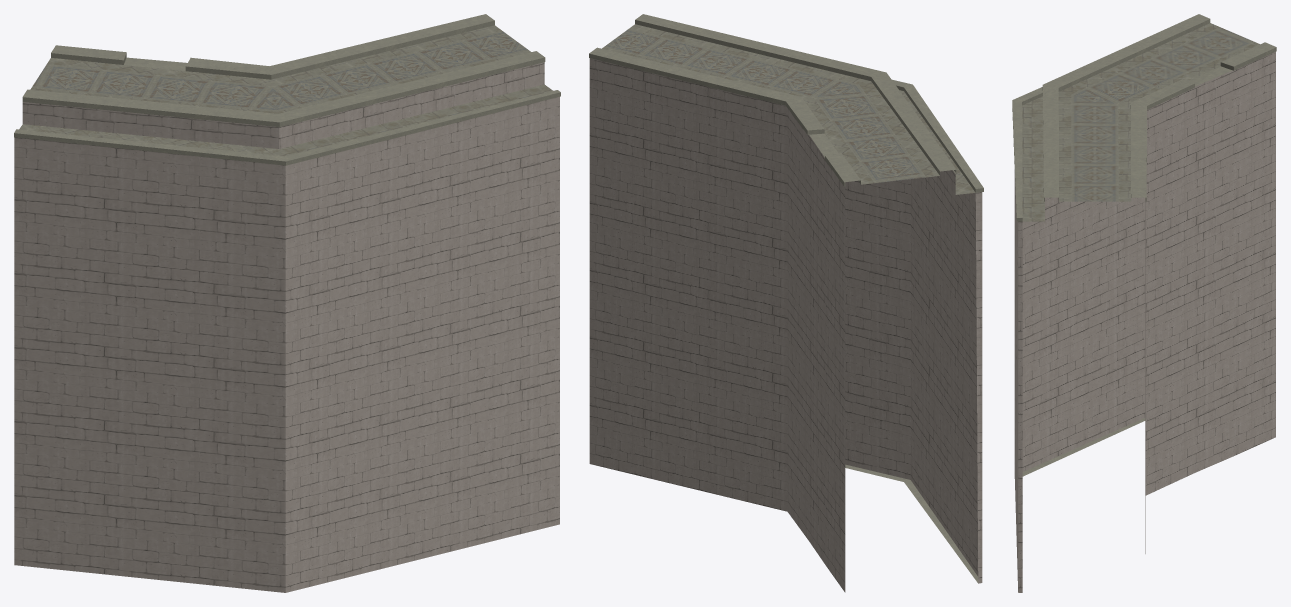
The model's file is AD_Ground_P_01.fbx.
The picture shows the model from 3 angles, left to right: view 1: azimuth 30°, elevation 25°; view 2: azimuth 150°, elevation 25°; view 3: azimuth 270°, elevation 25°; orthographic projection. The views are drawn at different scales.
Parts seen in each view (by area): view 1: AD_Ground_P_01; view 2: AD_Ground_P_01; view 3: AD_Ground_P_01.
Part boxes in pixels (x1=…): AD_Ground_P_01: x1=14, y1=14, x2=560, y2=592; AD_Ground_P_01: x1=589, y1=14, x2=983, y2=592; AD_Ground_P_01: x1=1012, y1=14, x2=1276, y2=592.
Size of the model in its own units: 6403 by 6184 by 3742.
Materials: 4 (4 with a texture image).
